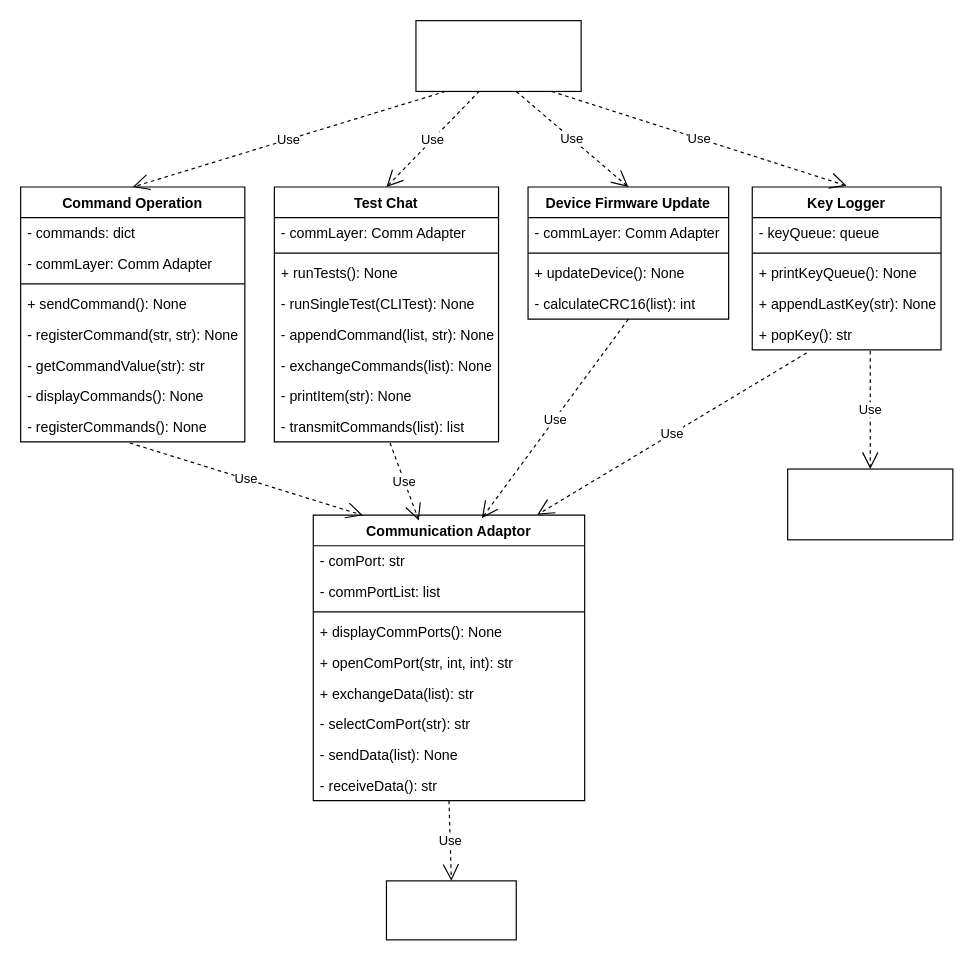
Some shapes in this 973 by 961 pixel diagram are drawn without their labels. The shapes that lost their labels are listed below. From the top down, each one's centre as x and y in pixels, then its label:
At [498,55]: "CLI".
At [869,504]: "deque".
At [450,910]: "PySerial".
